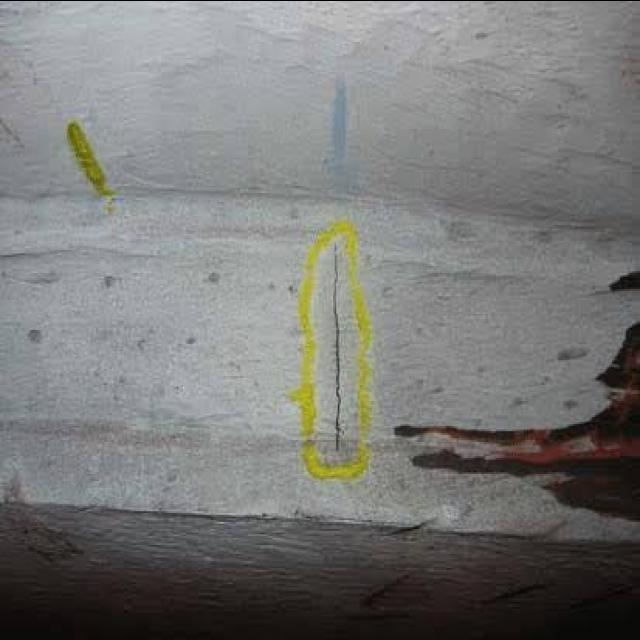Crack: (328, 238, 346, 457)
